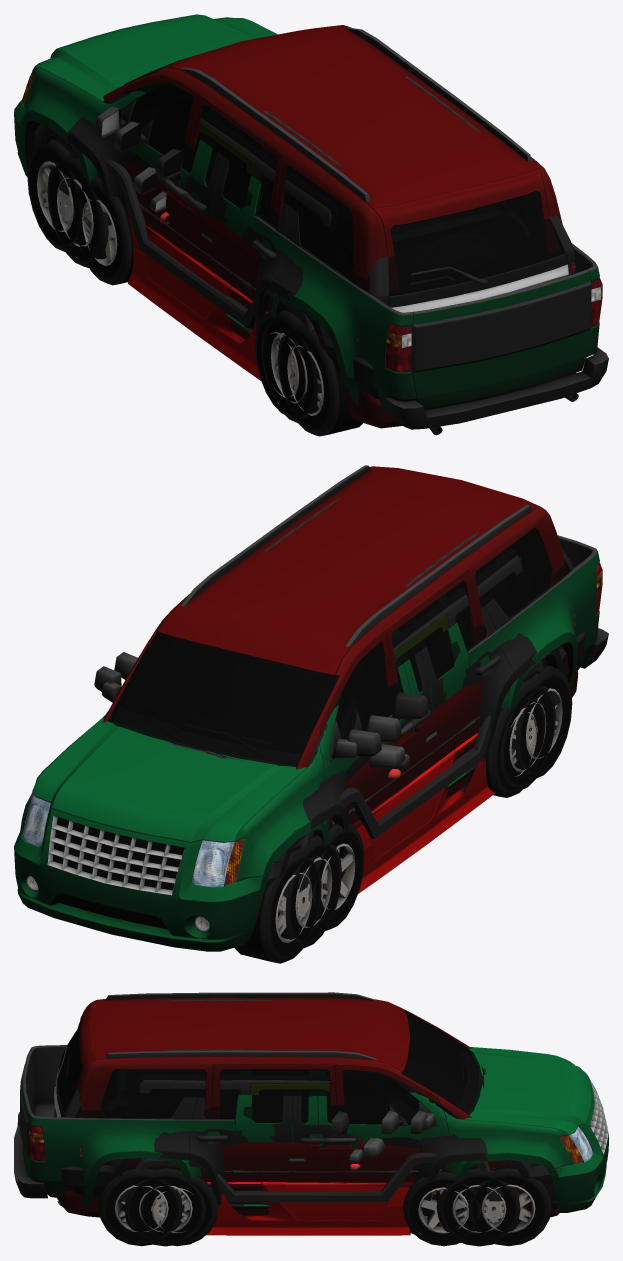
File: Cars_Library.glb
3 views of the same model, one above another, from view 1: azimuth 30°, elevation 25°; view 2: azimuth 150°, elevation 25°; view 3: azimuth 270°, elevation 25° (orthographic). The views are drawn at different scales.
Visible parts, largest first — view 1: minivan body_Body_0, Pickup Body_Body_0, SUV Body_Body_0, Offroad Body_Body_0, Sport body_Body_0; view 2: minivan body_Body_0, Pickup Body_Body_0, SUV Body_Body_0, Offroad Body_Body_0, Sport body_Body_0; view 3: minivan body_Body_0, Pickup Body_Body_0, SUV Body_Body_0, Offroad Body_Body_0, Sport body_Body_0, Wagon Body_Body_0.
Part boxes in pixels (x1=…): minivan body_Body_0: x1=58, y1=25, x2=576, y2=428; Pickup Body_Body_0: x1=14, y1=14, x2=608, y2=436; SUV Body_Body_0: x1=34, y1=76, x2=575, y2=422; Offroad Body_Body_0: x1=59, y1=118, x2=331, y2=414; Sport body_Body_0: x1=128, y1=212, x2=267, y2=380; minivan body_Body_0: x1=102, y1=465, x2=578, y2=945; Pickup Body_Body_0: x1=14, y1=535, x2=608, y2=963; SUV Body_Body_0: x1=114, y1=498, x2=585, y2=948; Offroad Body_Body_0: x1=298, y1=556, x2=559, y2=930; Sport body_Body_0: x1=356, y1=733, x2=494, y2=893; minivan body_Body_0: x1=57, y1=992, x2=559, y2=1225; Pickup Body_Body_0: x1=14, y1=1045, x2=608, y2=1246; SUV Body_Body_0: x1=53, y1=999, x2=558, y2=1246; Offroad Body_Body_0: x1=118, y1=1080, x2=502, y2=1246; Sport body_Body_0: x1=206, y1=1163, x2=438, y2=1235; Wagon Body_Body_0: x1=119, y1=1137, x2=461, y2=1242.
Bounding box in the file's own units: 2.07 × 1.76 × 5.18.
Materials: 40 (30 with a texture image).
